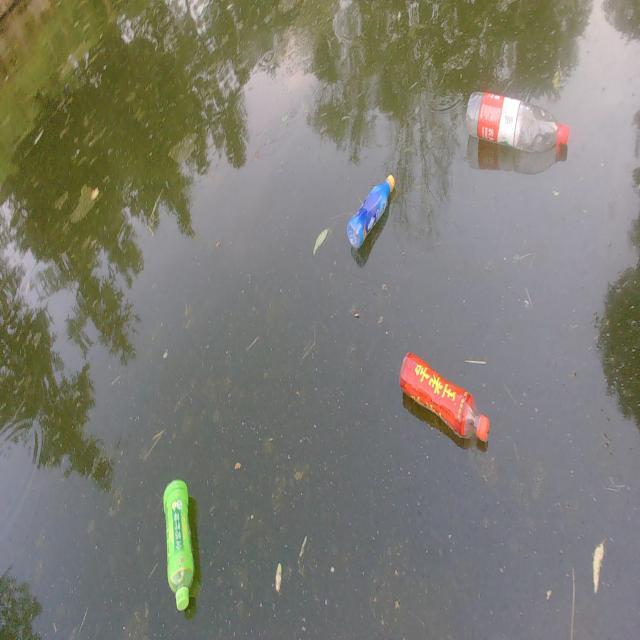bottle: (373, 318, 511, 471), (453, 67, 584, 184), (150, 462, 220, 620), (345, 164, 400, 258)
